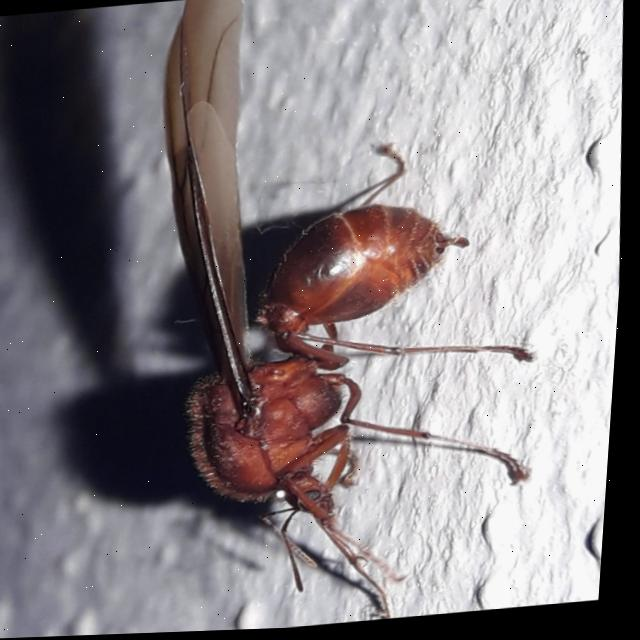Alive-Male-Alate: (129, 0, 573, 635)
